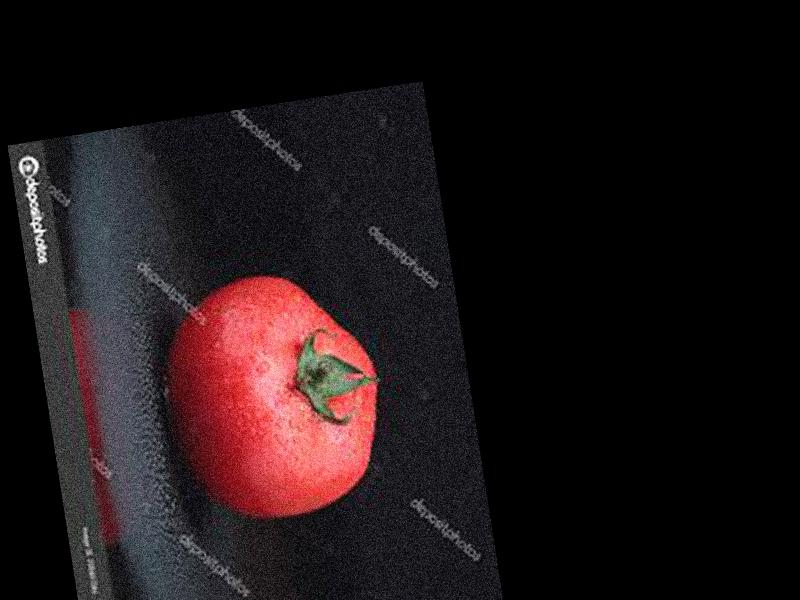Tomato: (151, 259, 398, 533)
